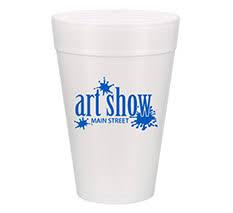Plastic cup: (49, 9, 187, 213)
